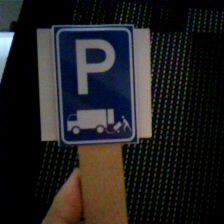load: (44, 22, 153, 148)
